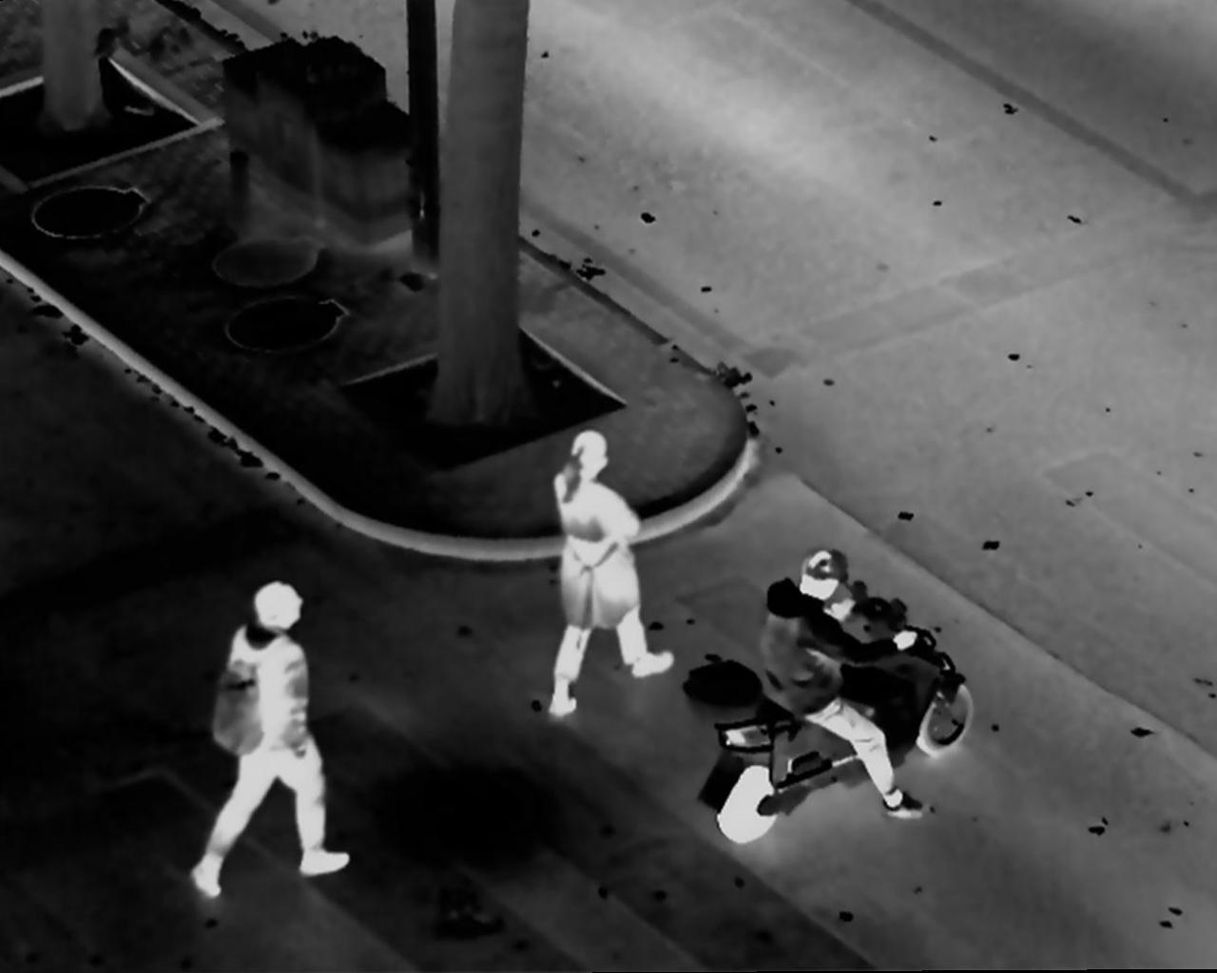person: (181, 576, 366, 891), (759, 545, 937, 826), (531, 422, 678, 717)
